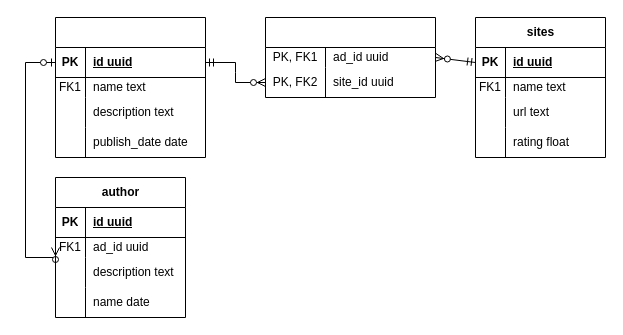
This 623x335 diagram has some shape labels left out. The box of each missing label's shape, as (x1, y1, x2, y2) in pixels:
ads: (54, 16, 206, 158)
ads_to_site: (264, 16, 436, 98)
